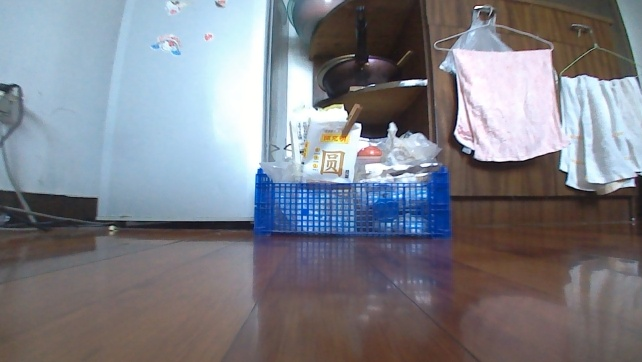refrigerator1: (90, 0, 292, 234)
wire: (0, 80, 107, 230)
